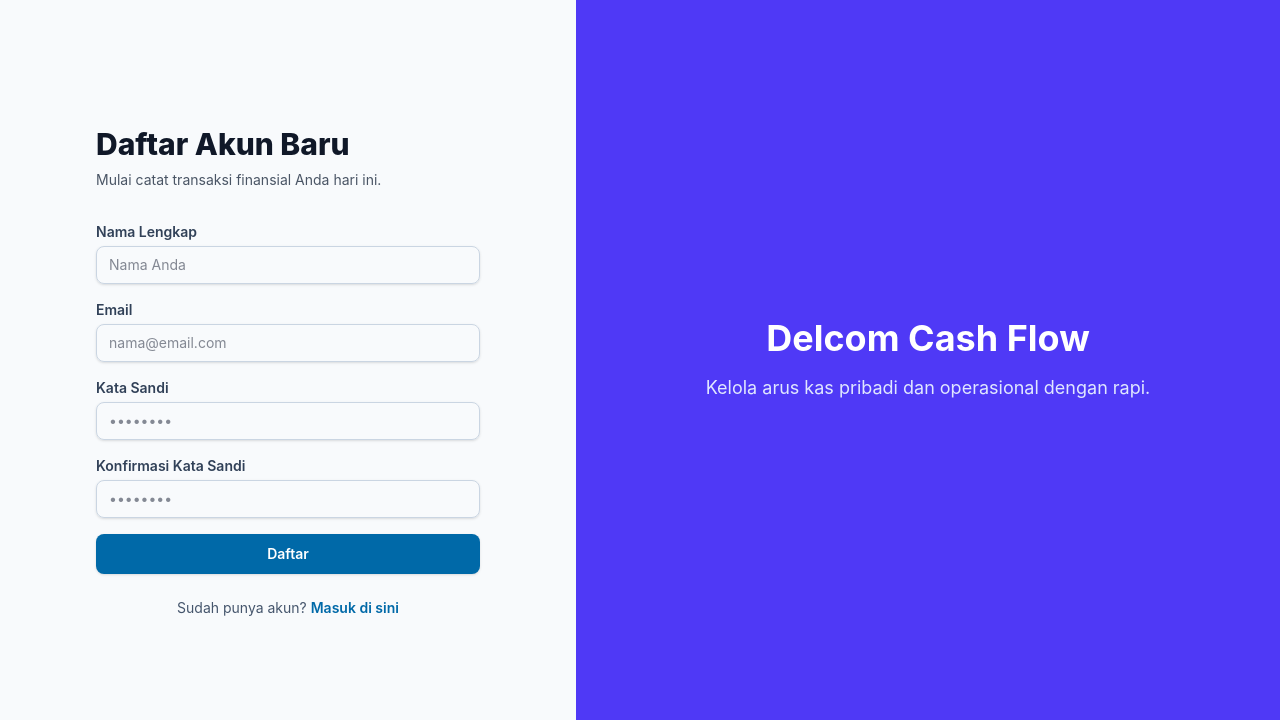
Test: RegisterPage.vue › validasi form: mendeteksi format email salah, password < 6 karakter, dan konfirmasi tidak cocok
The width and height of the screenshot is (1280, 720).
In the field with id "register-name-input": (288, 265) [96,246,480,284], type "Test"
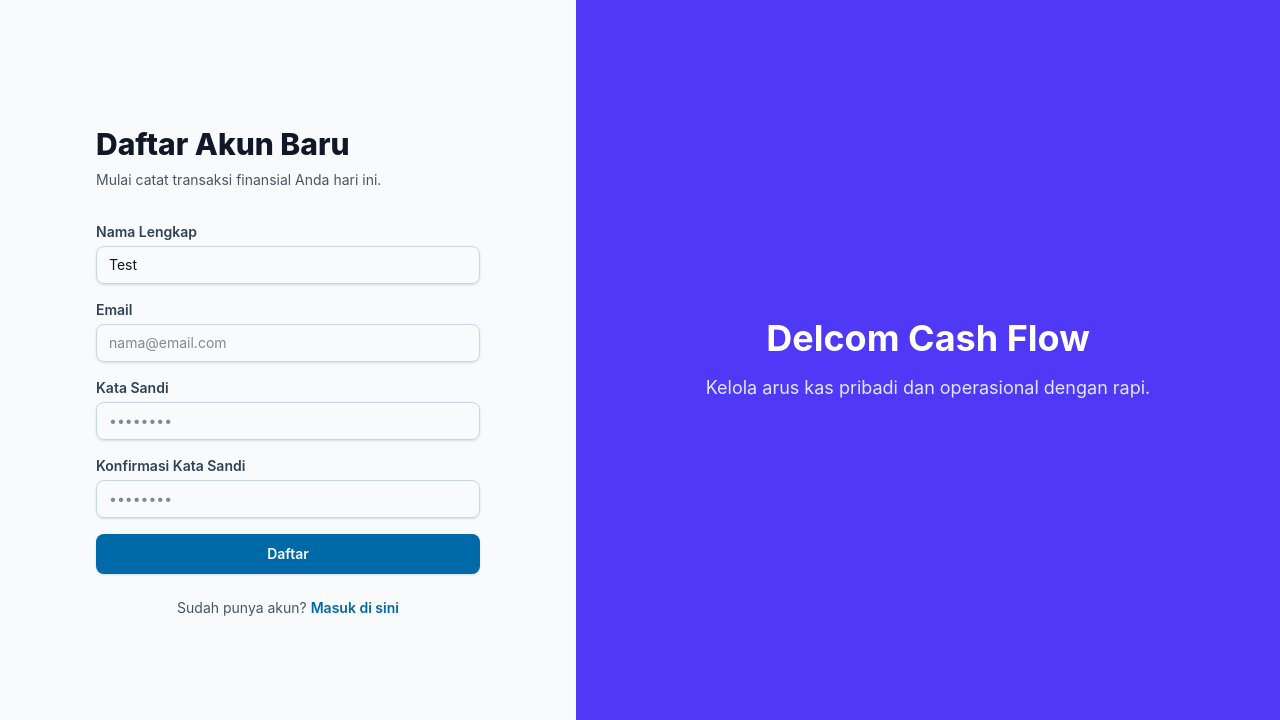
In the field with id "register-email-input": (288, 343) [96,324,480,362], type "format-salah"
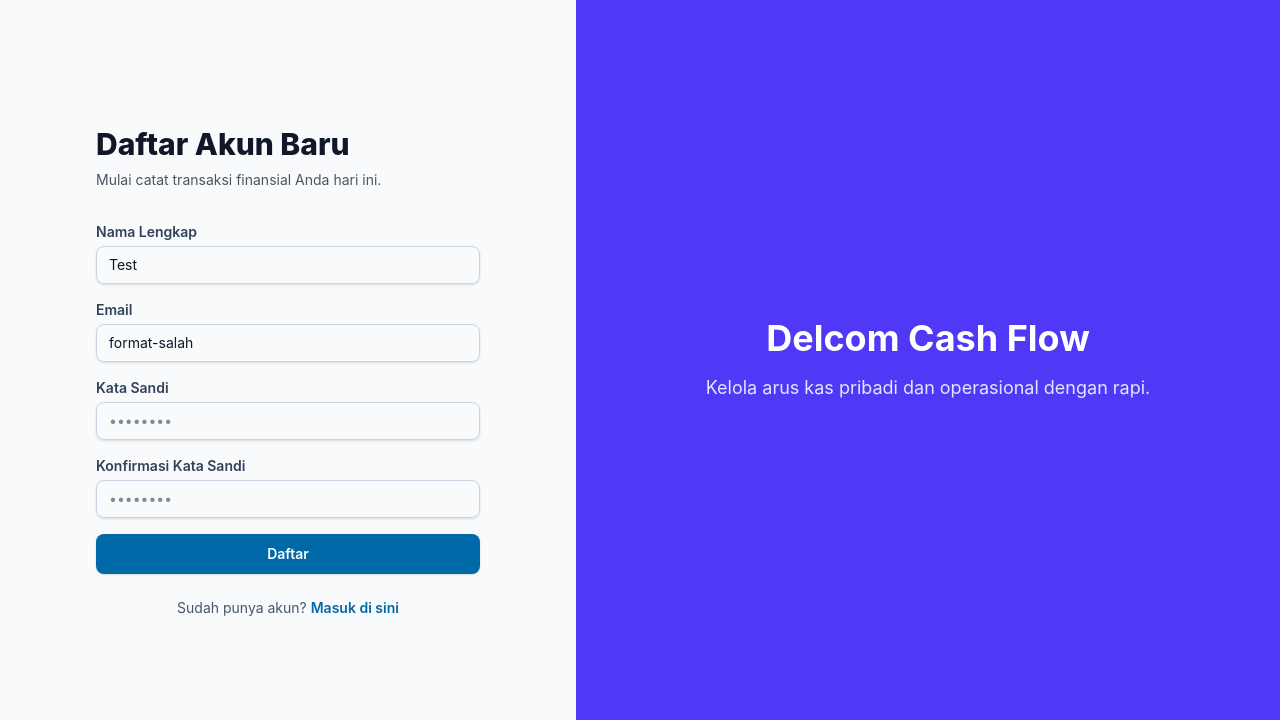
In the password field with id "register-password-input": (288, 421) [96,402,480,440], type "123"
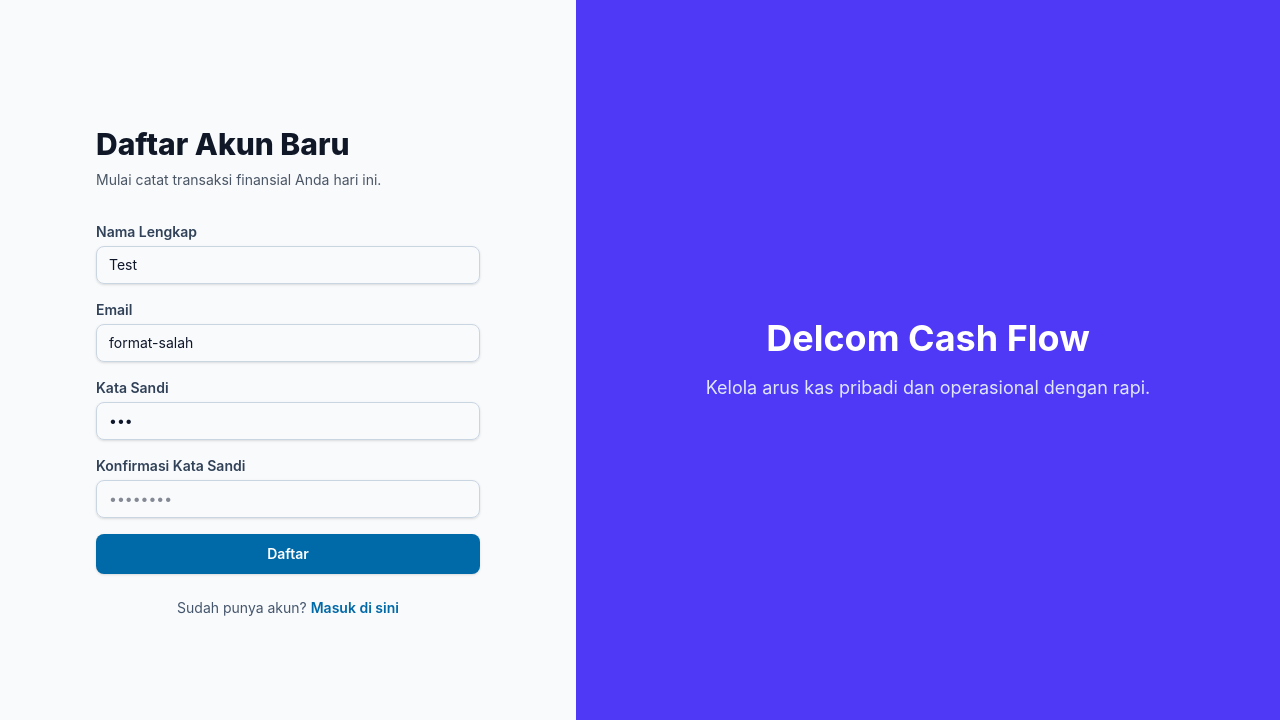
In the password field with id "register-confirm-password-input": (288, 499) [96,480,480,518], type "321"
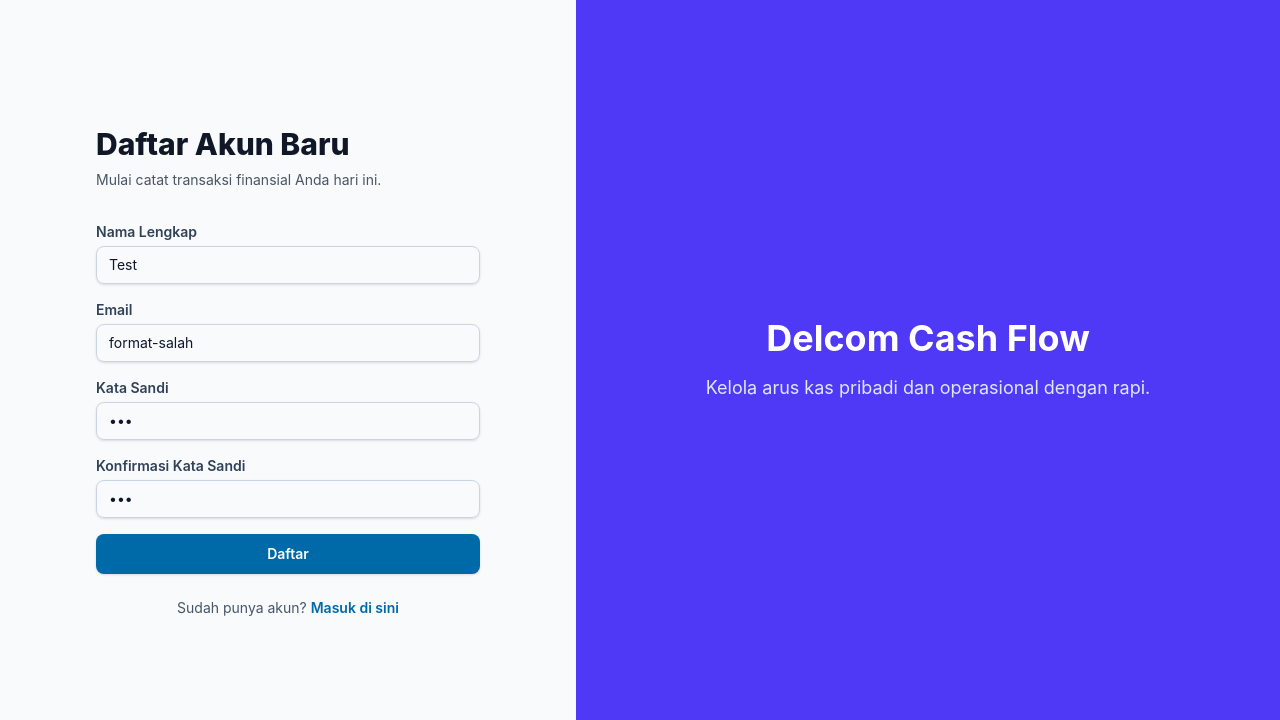
Submit the form, box [96,222,480,618]
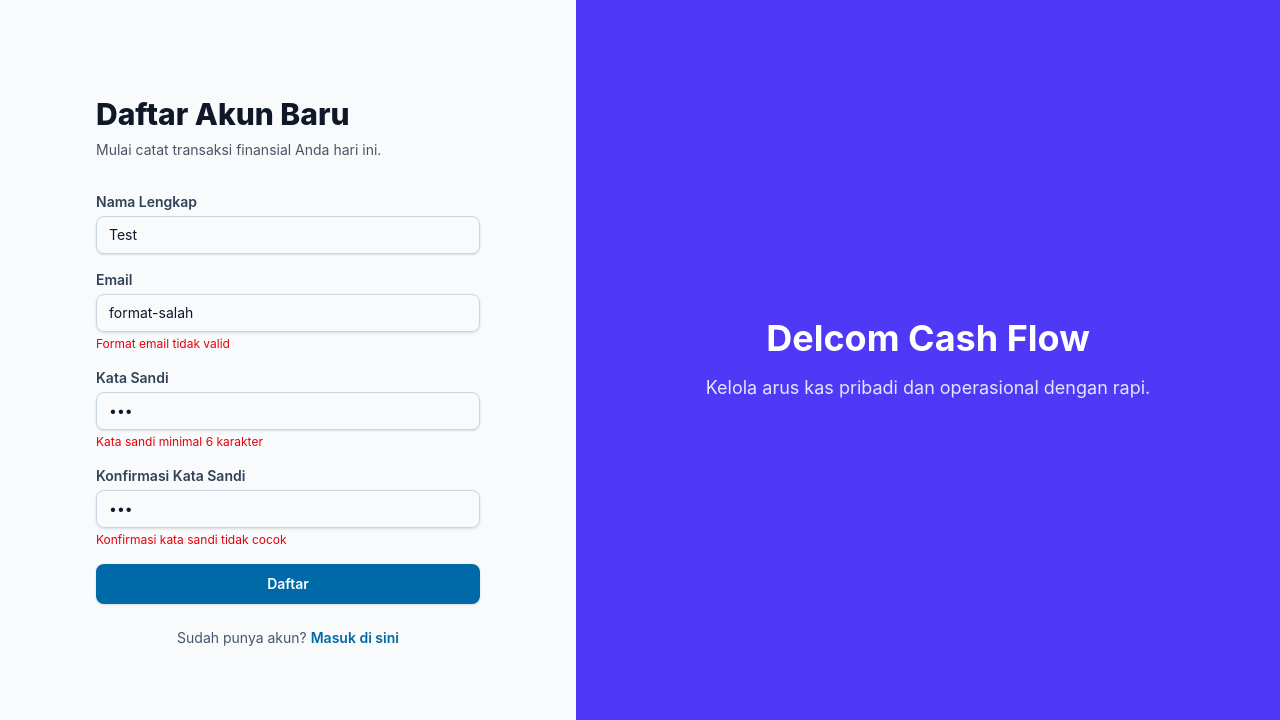
Result: the text "Format email tidak valid" is shown at [96,336,230,351]
Result: the text "Kata sandi minimal 6 karakter" is shown at [96,434,263,449]
Result: the text "Konfirmasi kata sandi tidak cocok" is shown at [96,532,287,547]
